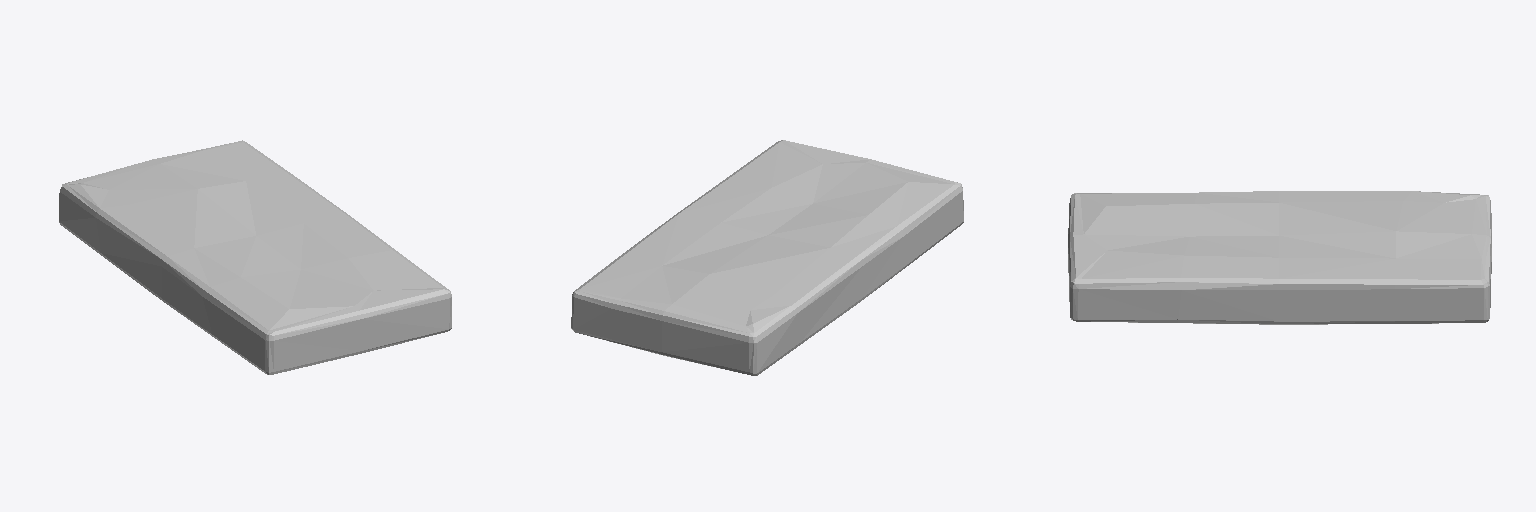
The model's file is Hospital Bed Mattress.obj.
3 views of the same model, side by side, from view 1: azimuth 30°, elevation 25°; view 2: azimuth 150°, elevation 25°; view 3: azimuth 270°, elevation 25° (orthographic).
Parts seen in each view (by area): view 1: Hospital_Bed_Mattress; view 2: Hospital_Bed_Mattress; view 3: Hospital_Bed_Mattress.
Boxes of the visible parts, x1=… form: Hospital_Bed_Mattress: x1=59, y1=140, x2=451, y2=374; Hospital_Bed_Mattress: x1=571, y1=140, x2=963, y2=375; Hospital_Bed_Mattress: x1=1068, y1=191, x2=1491, y2=324.
Bounding box in the file's own units: 73.56 × 18.19 × 142.